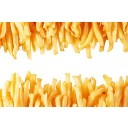frenchfries: (1, 23, 128, 60), (1, 73, 128, 106)
